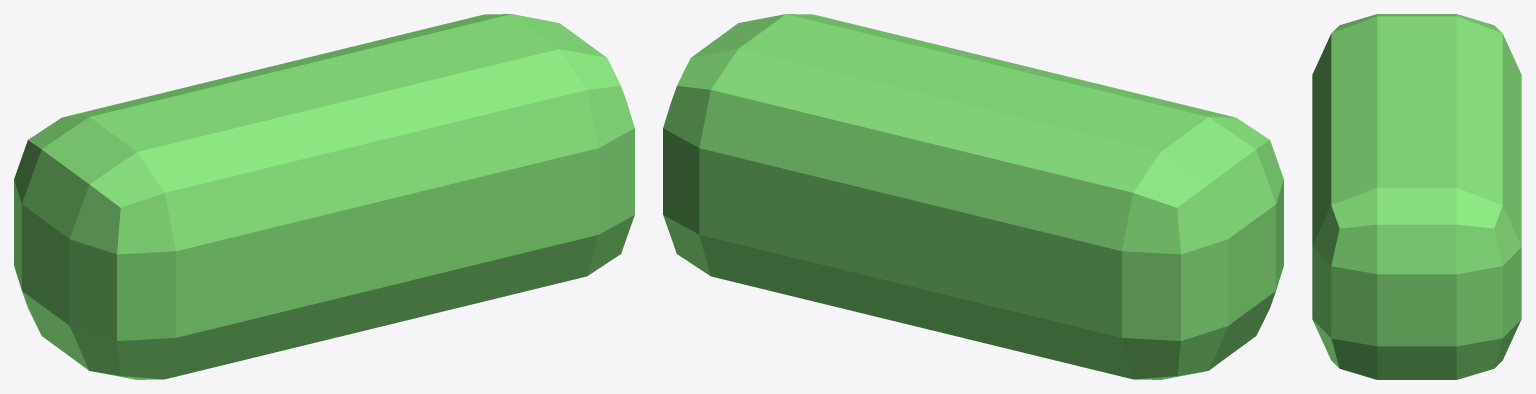
Rendered from Bush1.fbx.
3 views of the same model, side by side, from view 1: azimuth 30°, elevation 25°; view 2: azimuth 150°, elevation 25°; view 3: azimuth 270°, elevation 25° (orthographic). The views are drawn at different scales.
Parts seen in each view (by area): view 1: Cube; view 2: Cube; view 3: Cube.
Boxes of the visible parts, x1=… form: Cube: x1=14, y1=14, x2=634, y2=379; Cube: x1=663, y1=14, x2=1283, y2=379; Cube: x1=1312, y1=14, x2=1521, y2=379.
Size of the model in its own units: 1349 by 573 by 527.
